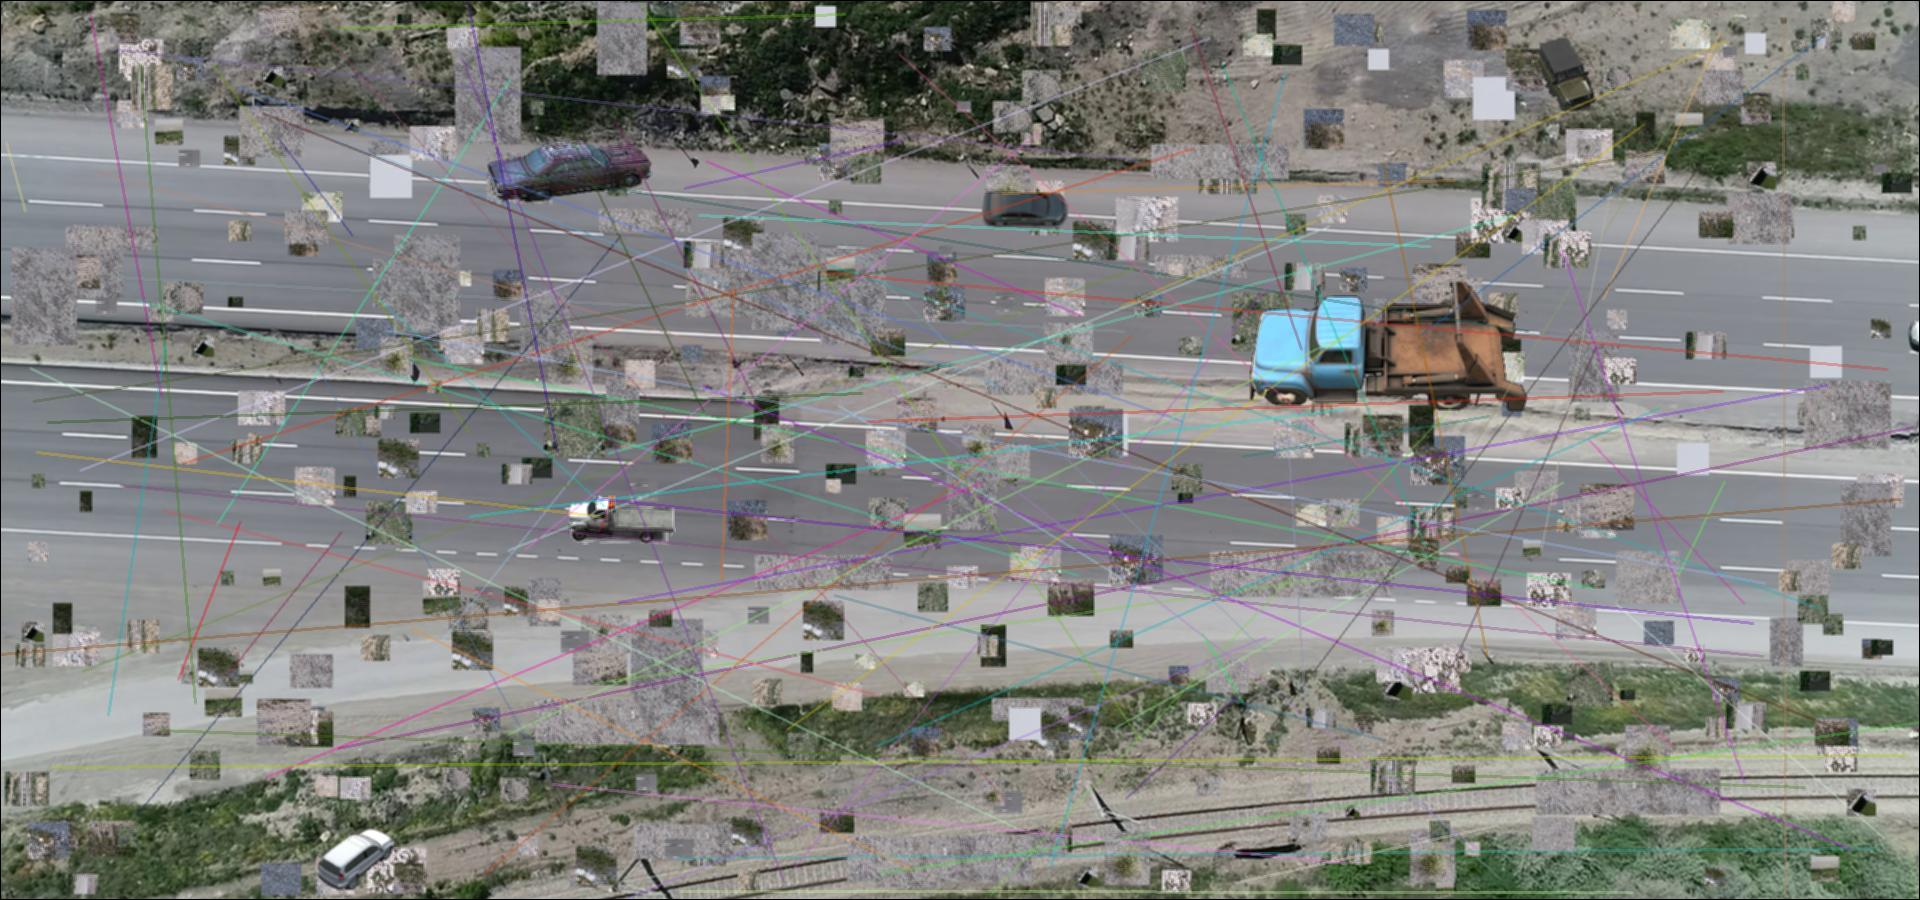arac: (1250, 282, 1527, 419), (485, 137, 651, 204), (315, 823, 396, 891), (569, 496, 678, 545), (1537, 38, 1597, 111), (980, 187, 1073, 231)
